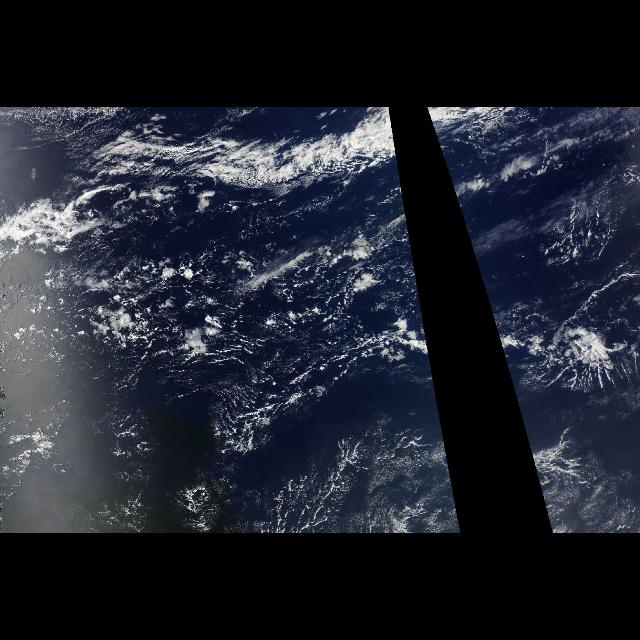Fish: (65, 112, 412, 254), (427, 112, 523, 254)
Sugar: (76, 256, 460, 534), (520, 415, 640, 533)
